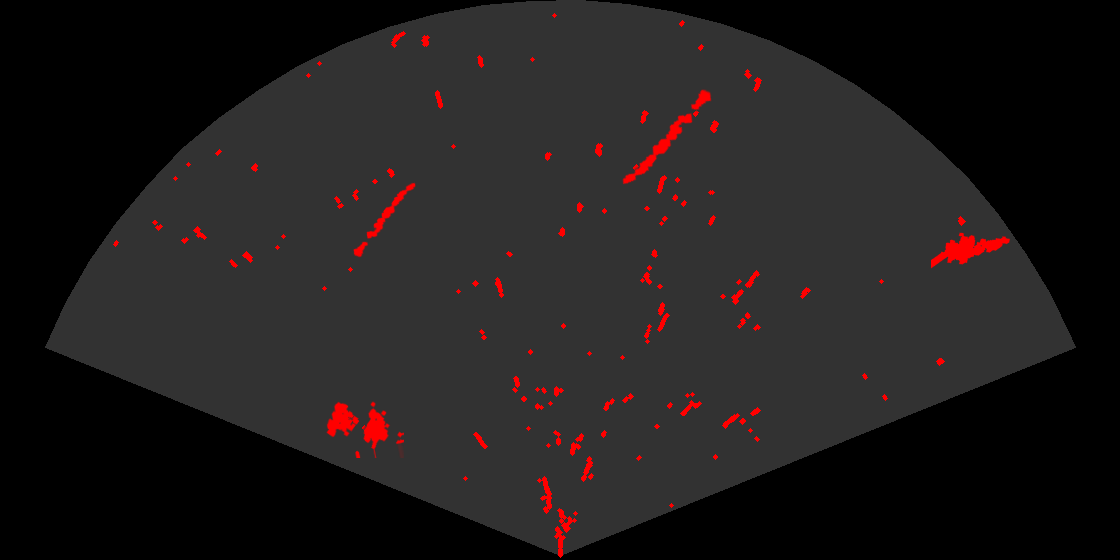cage: (325, 400, 404, 458)
chain: (621, 88, 713, 186), (352, 181, 417, 259)
frogman: (931, 231, 1012, 270)
